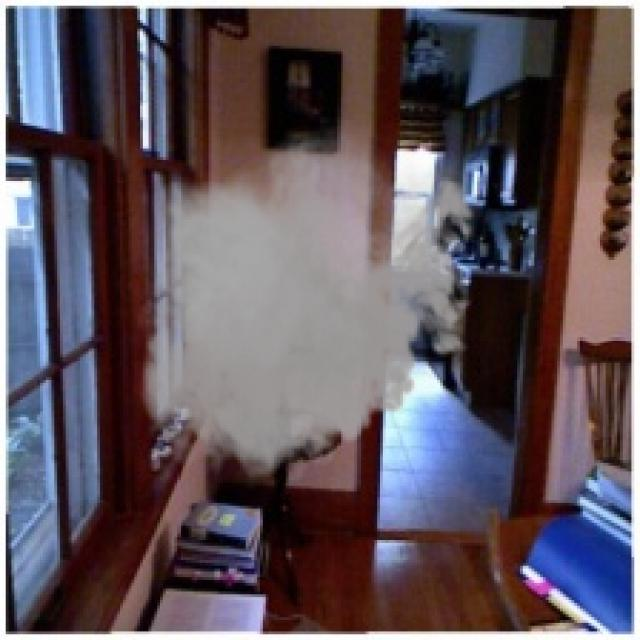smoke: (128, 117, 486, 492)
